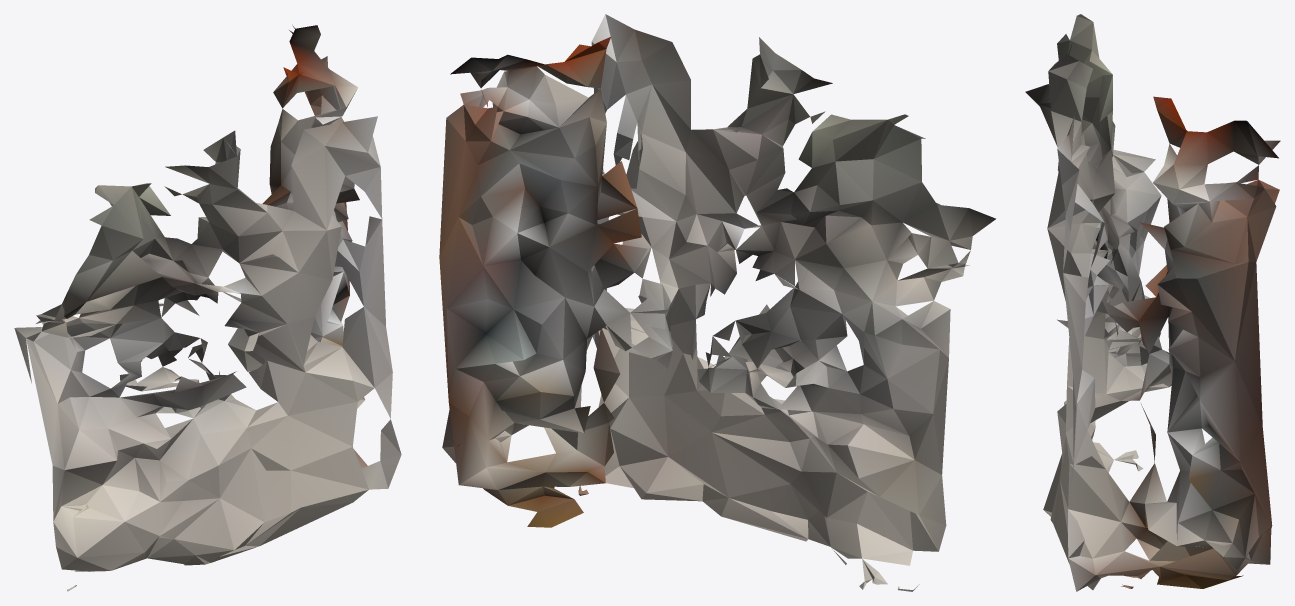
File: prep_run__fridge_side_drawer_1.scan.glb
The picture shows the model from 3 angles, left to right: view 1: azimuth 30°, elevation 25°; view 2: azimuth 150°, elevation 25°; view 3: azimuth 270°, elevation 25°; orthographic projection. The views are drawn at different scales.
Parts seen in each view (by area): view 1: geometry_0; view 2: geometry_0; view 3: geometry_0.
Part boxes in pixels (bbox=[...]): geometry_0: bbox=[14, 25, 401, 591]; geometry_0: bbox=[439, 14, 995, 591]; geometry_0: bbox=[1025, 14, 1280, 591].
Size of the model in its own units: 0.4831 by 0.5279 by 0.2425.
